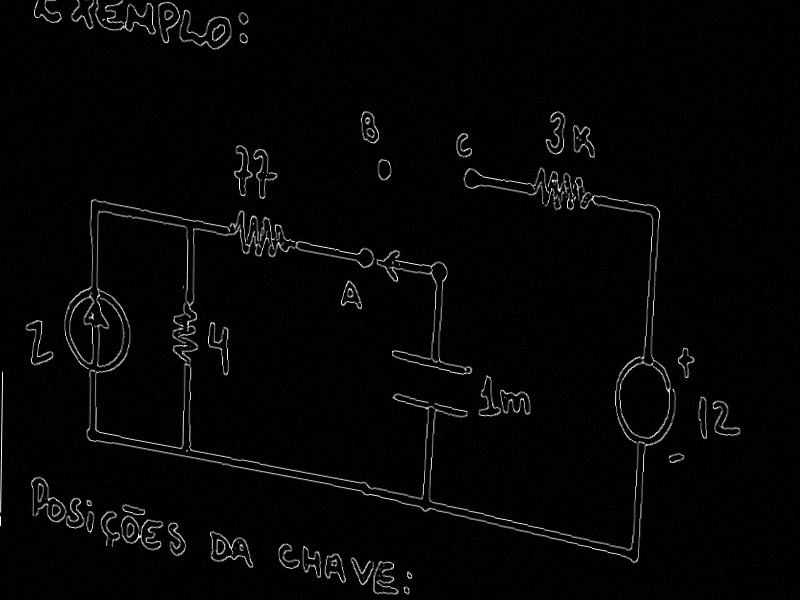-: (119, 500, 149, 518), (666, 448, 686, 468)
0: (203, 9, 233, 54), (119, 513, 142, 547), (46, 494, 69, 528)
1: (477, 372, 503, 424), (695, 392, 710, 443)
2: (707, 394, 742, 440)
3: (543, 107, 567, 160)
4: (205, 319, 233, 377)
7: (251, 143, 279, 203), (232, 141, 254, 200)
A: (338, 275, 365, 314), (323, 547, 349, 585), (230, 534, 255, 571)
H: (300, 544, 322, 580)
V: (349, 553, 377, 591)
k: (571, 121, 597, 162)
m: (123, 0, 158, 39), (499, 382, 533, 418)
p: (156, 0, 180, 47), (29, 472, 51, 523)
